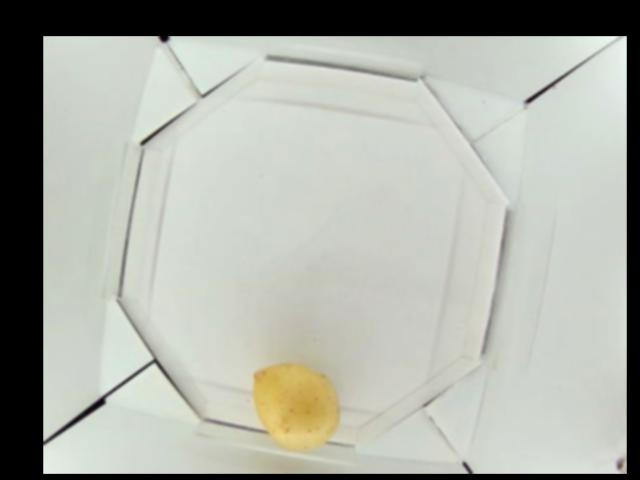Potato: (250, 362, 337, 453)
